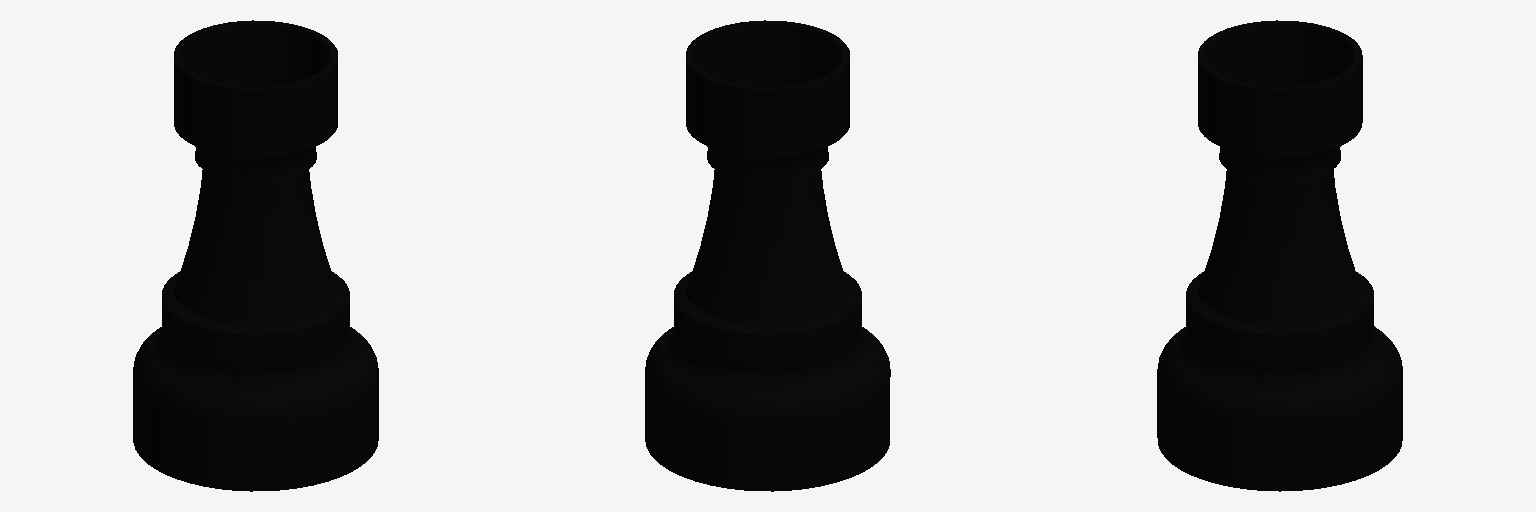
robot.urdf — rook:
<?xml version="1.0" ?>
<robot name="rook">

  <link name="rook__link_0">
    <inertial>
      <mass value="0.002"/>
      <origin rpy="0  0  0" xyz="0  0  0"/>
      <inertia ixx="0.145833" ixy="0" ixz="0" iyy="0.145833" iyz="0" izz="0.125"/>
    </inertial>
    
    <collision name="rook__collision">
      <origin rpy="1.570795  0  0" xyz="0  0  0"/>
      <geometry>
        <mesh filename="package://chessRobot/models/pieces/rook/blackRook.dae" scale="0.00393700787 0.00393700787 0.00393700787"/>
      </geometry>
    <mu1 value="1.0"/>
    <mu2 value="1.0"/>
    <kp  value="10000000.0" />
    <kd  value="1.0" />
    <minDepth>0.002</minDepth>
    <maxVel>0</maxVel>  
    <dynamics damping="0.7" friction="1000" />
    </collision>
    
    <visual name="rook__visual">
      <origin rpy="1.570795  0  0" xyz="0  0  0"/>
      <geometry>
        <mesh filename="package://chessRobot/models/pieces/rook/blackRook.dae" scale="0.00393700787 0.00393700787 0.00393700787"/>
      </geometry>
    </visual>
  </link>
</robot>
 

--- Facts derived from the render (not from the file) ---
3 views of the same robot in one strip: view 1: azimuth 30°, elevation 25°; view 2: azimuth 150°, elevation 25°; view 3: azimuth 270°, elevation 25° (orthographic).
Robot: rook — 1 links, 0 joints (none); root link rook__link_0; default pose: all joints at 0.
Links seen in each view (by area): view 1: rook__link_0; view 2: rook__link_0; view 3: rook__link_0.
Link boxes in pixels (<box>): rook__link_0: <box>133,20,378,491</box>; rook__link_0: <box>645,20,890,491</box>; rook__link_0: <box>1157,20,1402,491</box>.
Size in the robot's own frame: 0.033 by 0.033 by 0.057 metres.
1 mesh visuals loaded from 1 distinct referenced files (1 Collada DAE).
